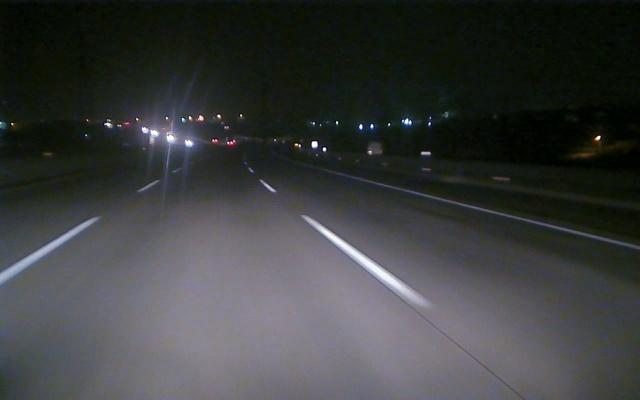lane: (260, 180, 433, 314), (340, 174, 637, 251), (3, 182, 154, 283)
